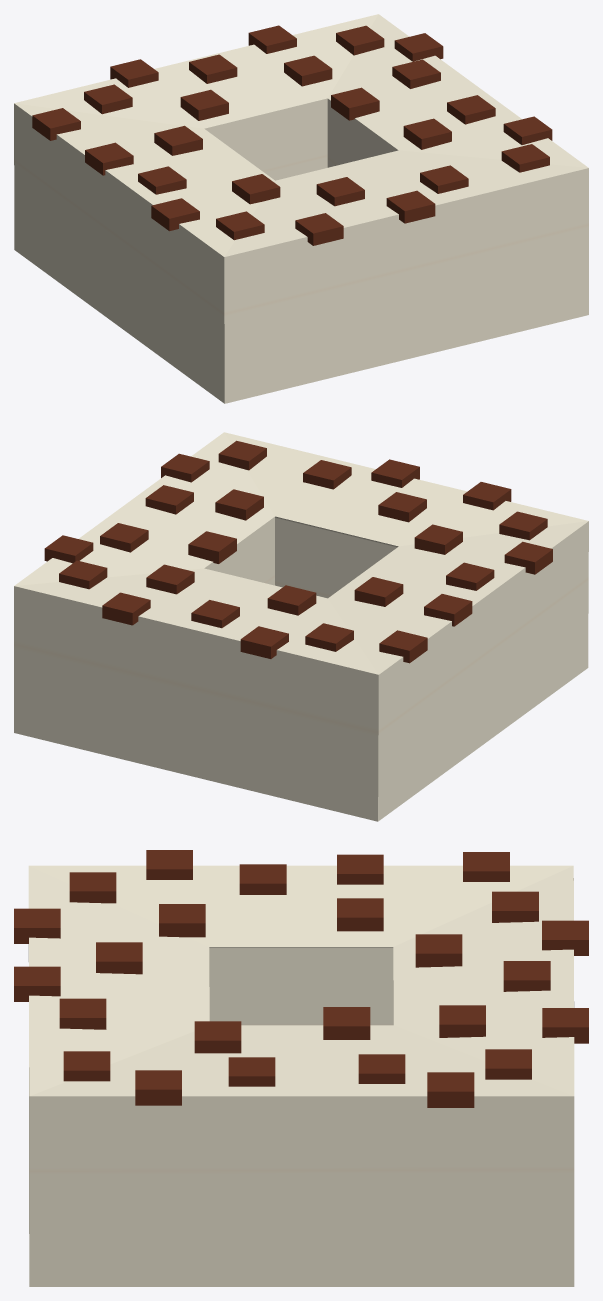
The model's file is CremeDonut.fbx.
3 renders of one model, top to bottom at view 1: azimuth 30°, elevation 25°; view 2: azimuth 150°, elevation 25°; view 3: azimuth 270°, elevation 25°, orthographic. The views are drawn at different scales.
Visible parts, largest first — view 1: Cube.004; view 2: Cube.004; view 3: Cube.004.
Boxes of the visible parts, bbox=[...] form: Cube.004: bbox=[14, 14, 588, 403]; Cube.004: bbox=[14, 432, 588, 821]; Cube.004: bbox=[14, 850, 588, 1286].
Size of the model in its own units: 404 by 156 by 406.
11 materials, 11 textured.
